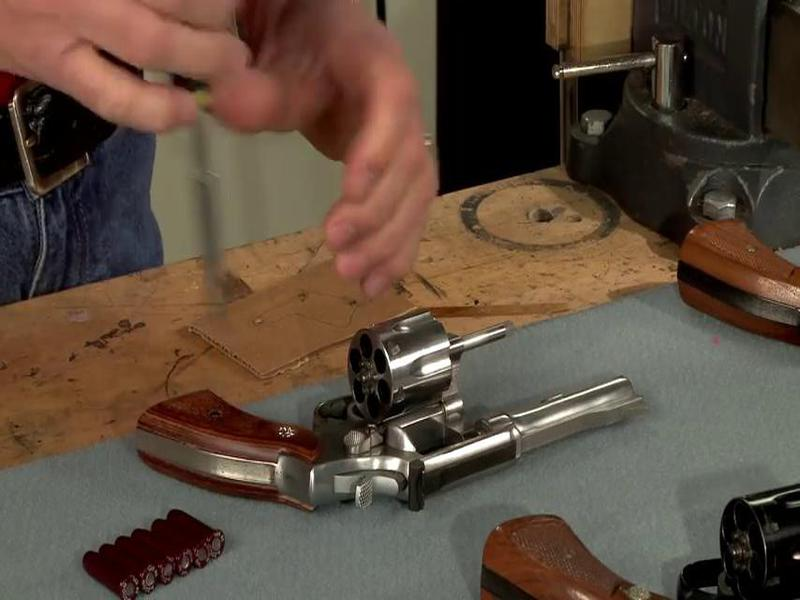Revolver: (129, 302, 647, 505)
